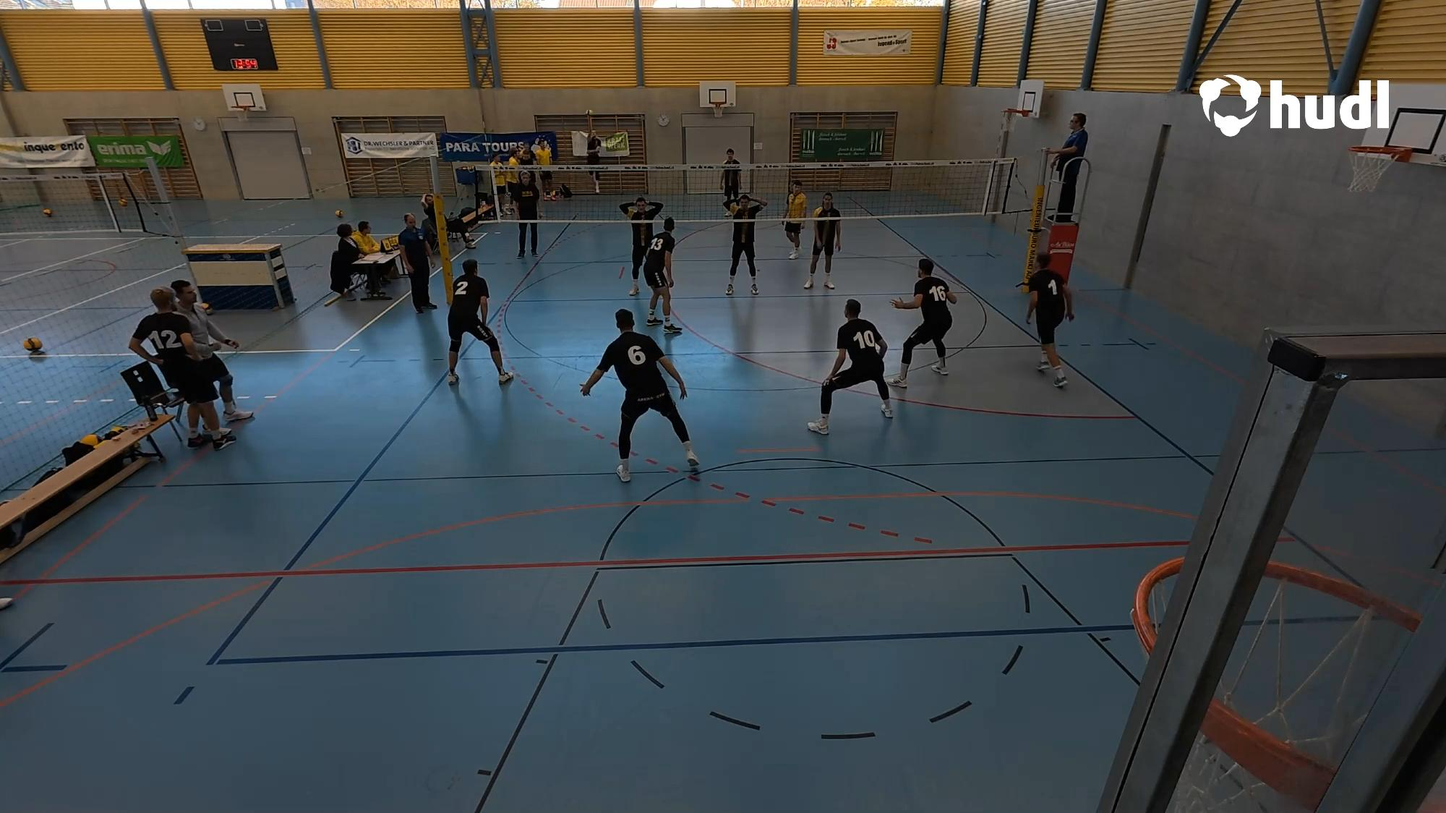Player: (580, 310, 699, 482), (805, 300, 897, 435), (445, 258, 512, 386), (894, 256, 955, 393), (1024, 248, 1076, 391), (641, 215, 682, 335), (622, 189, 664, 296), (724, 190, 762, 294), (804, 195, 842, 291), (781, 182, 808, 260), (718, 150, 743, 213)
Serve: (582, 108, 604, 197)
ball: (583, 106, 596, 118)
